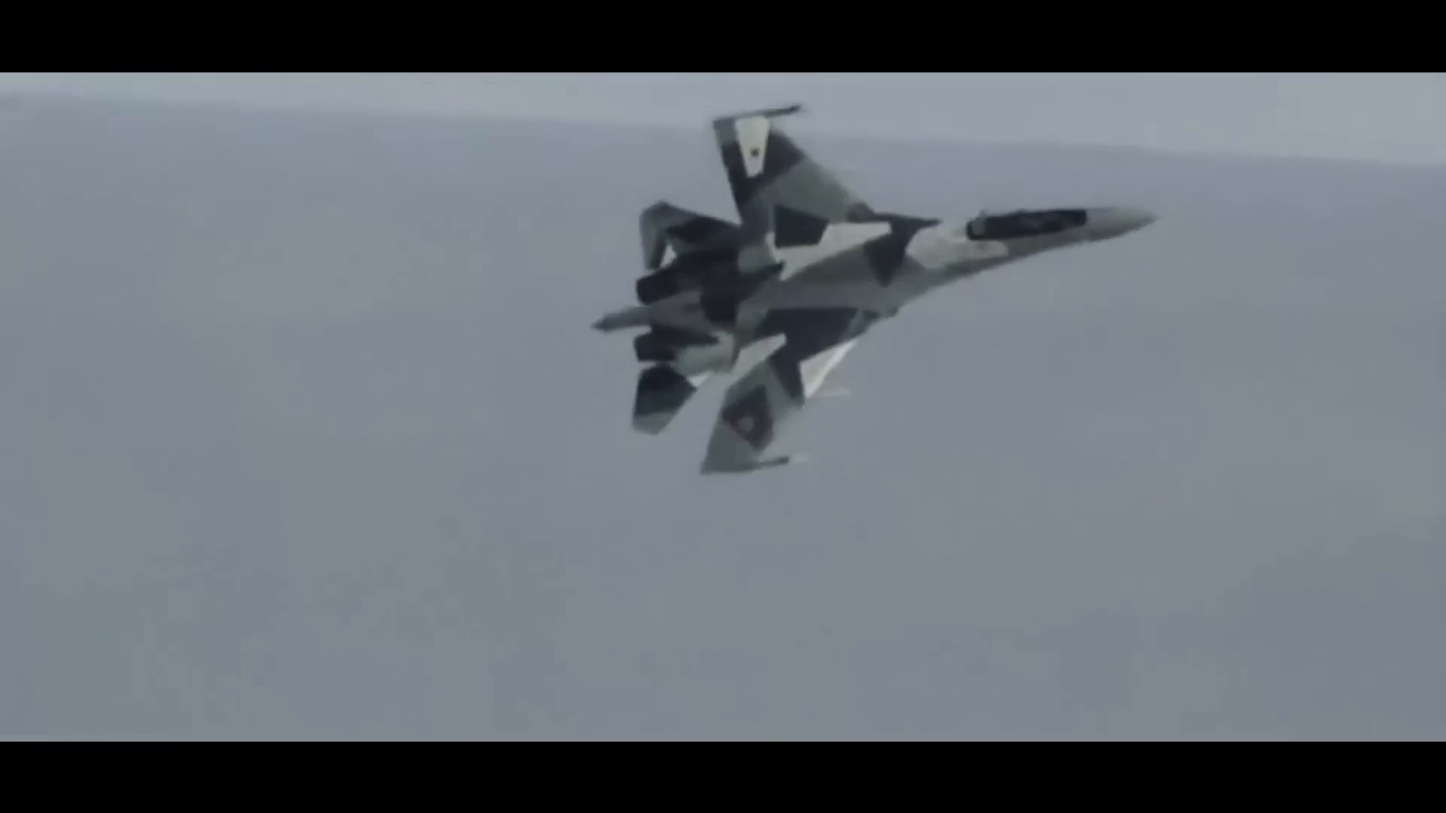Su35: (588, 104, 1160, 474)
